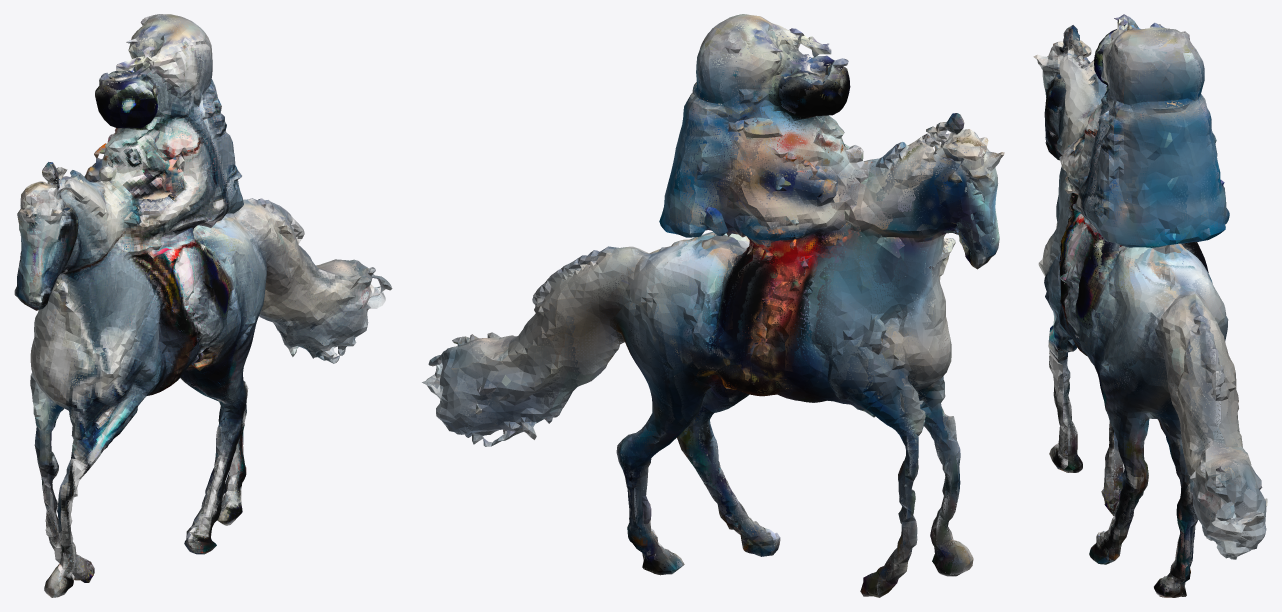
The model's file is astronaut_013.glb.
3 views of the same model, side by side, from view 1: azimuth 30°, elevation 25°; view 2: azimuth 150°, elevation 25°; view 3: azimuth 270°, elevation 25° (orthographic). The views are drawn at different scales.
Size of the model in its own units: 1.26 by 1.39 by 0.5512.
1 material, 1 textured.
